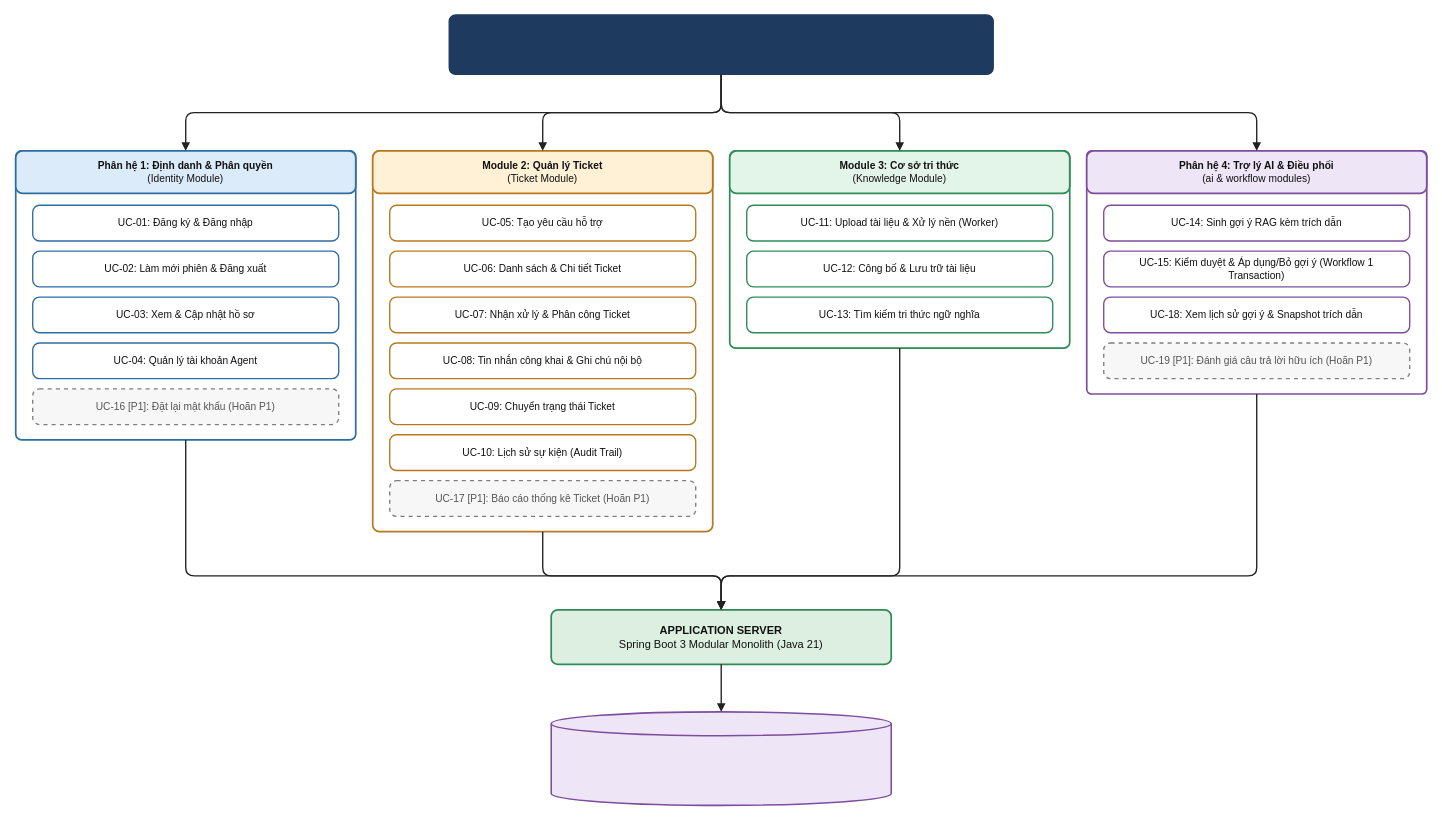
The diagram is 1442 pixels wide and 821 high, and some of its shapes have lost their labels. The box of each missing label's shape, as (x1, y1, x2, y2) in pixels:
DATABASE & STORAGE PostgreSQL 16 (pgvector) & File Storage: (550, 711, 892, 806)
HỆ THỐNG HELPDESK & CƠ SỞ TRI THỨC TÍCH HỢP AI (CLARUNE): (448, 14, 993, 75)
